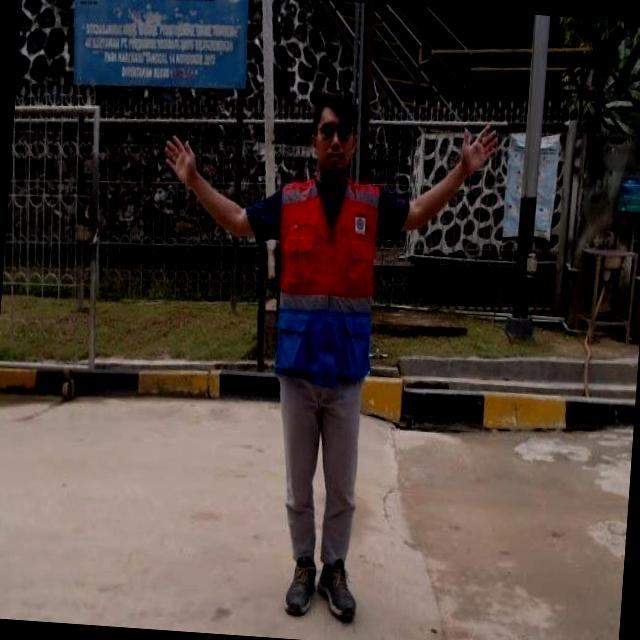vest: (267, 172, 386, 385)
